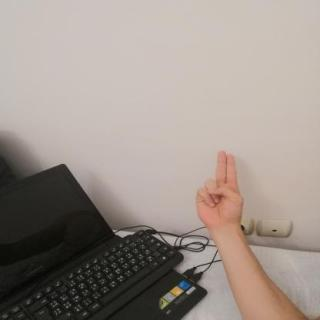TA: (183, 141, 252, 239)
